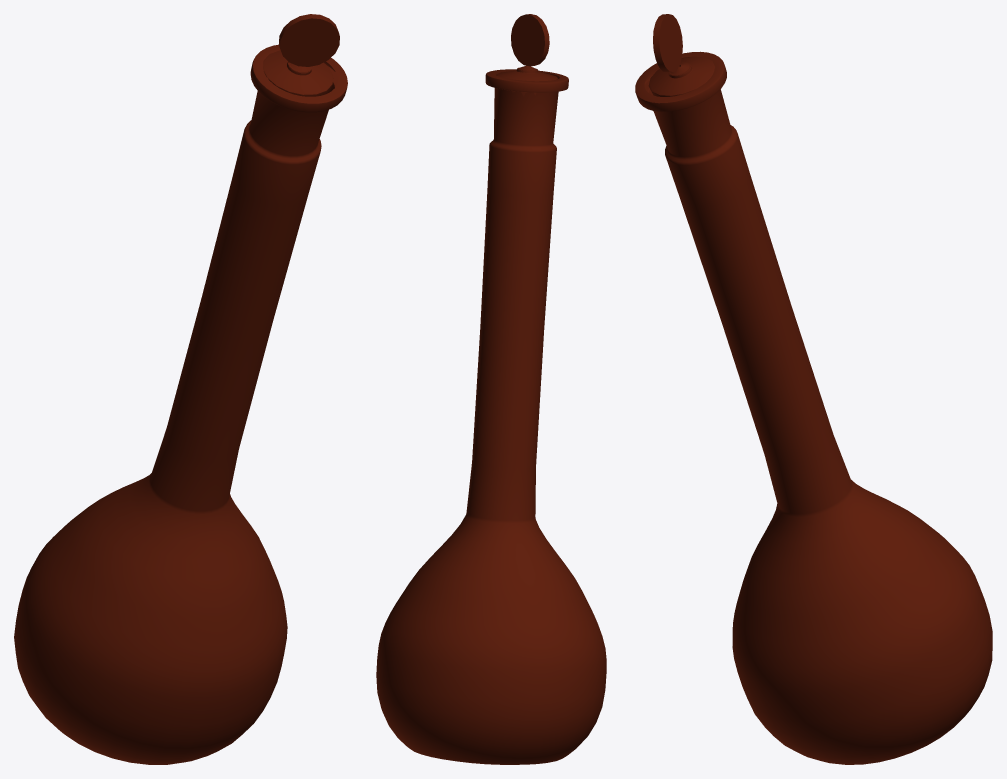
The model's file is 棕色容量瓶.fbx.
The picture shows the model from 3 angles, left to right: view 1: azimuth 30°, elevation 25°; view 2: azimuth 150°, elevation 25°; view 3: azimuth 270°, elevation 25°; orthographic projection. The views are drawn at different scales.
Parts seen in each view (by area): view 1: Line002, Cylinder001, Line003; view 2: Line002, Cylinder001, Line003; view 3: Line002, Line003, Cylinder001.
Part boxes in pixels (bbox=[...]): Line002: bbox=[14, 44, 347, 764]; Cylinder001: bbox=[279, 14, 339, 66]; Line003: bbox=[263, 50, 333, 96]; Line002: bbox=[376, 69, 606, 764]; Cylinder001: bbox=[511, 14, 549, 66]; Line003: bbox=[496, 65, 557, 96]; Line002: bbox=[635, 51, 992, 764]; Line003: bbox=[648, 56, 714, 96]; Cylinder001: bbox=[653, 14, 682, 72].
Size of the model in its own units: 647 by 2079 by 895.
